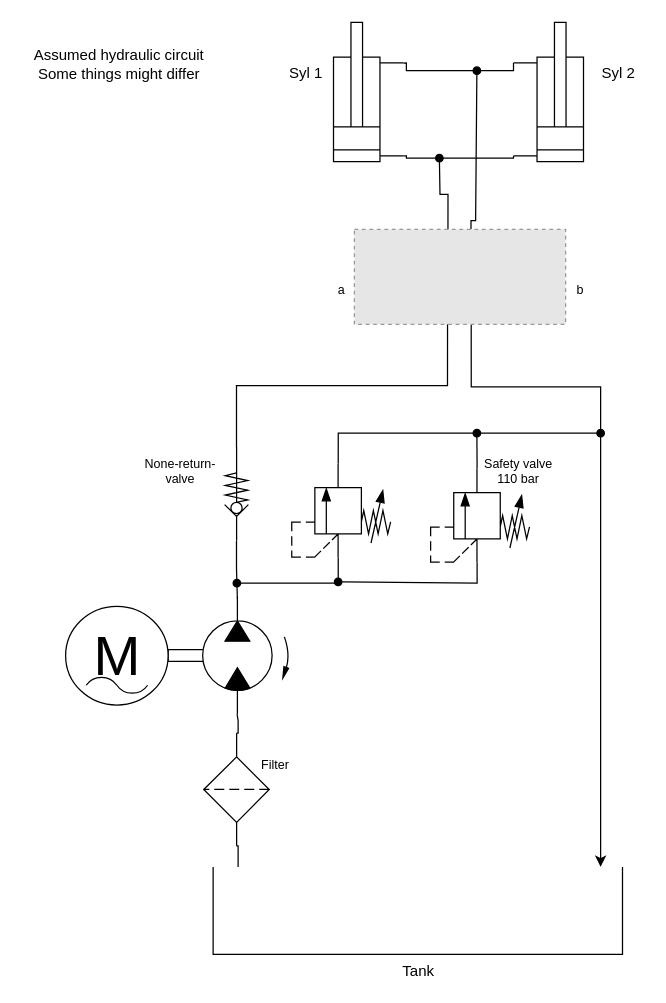
The diagram is 666 pixels wide and 1003 high, and some of its shapes have lost their labels. Grey dashed boxes stand in for pictures. Here are the shapes that lost their labels. From the top down, the box of each, then its label:
(290, 462, 391, 558): Pressure valve 100 bar
(167, 596, 289, 714): Pump
